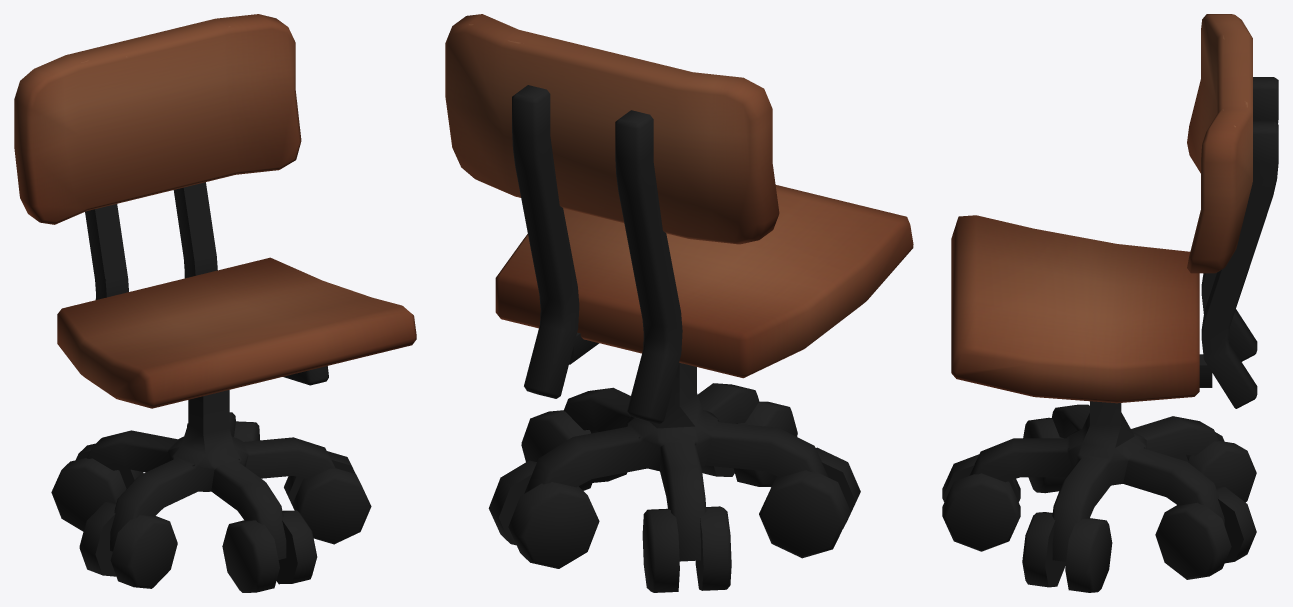
The model's file is TeacherSeat.fbx.
The picture shows the model from 3 angles, left to right: view 1: azimuth 30°, elevation 25°; view 2: azimuth 150°, elevation 25°; view 3: azimuth 270°, elevation 25°; orthographic projection. The views are drawn at different scales.
Visible parts, largest first — view 1: TeacherSeat; view 2: TeacherSeat; view 3: TeacherSeat.
Part boxes in pixels (box(x1,y1,x2,y2)): TeacherSeat: box(14, 14, 416, 592); TeacherSeat: box(445, 14, 913, 592); TeacherSeat: box(942, 14, 1278, 592).
Size of the model in its own units: 186 by 290 by 189.
